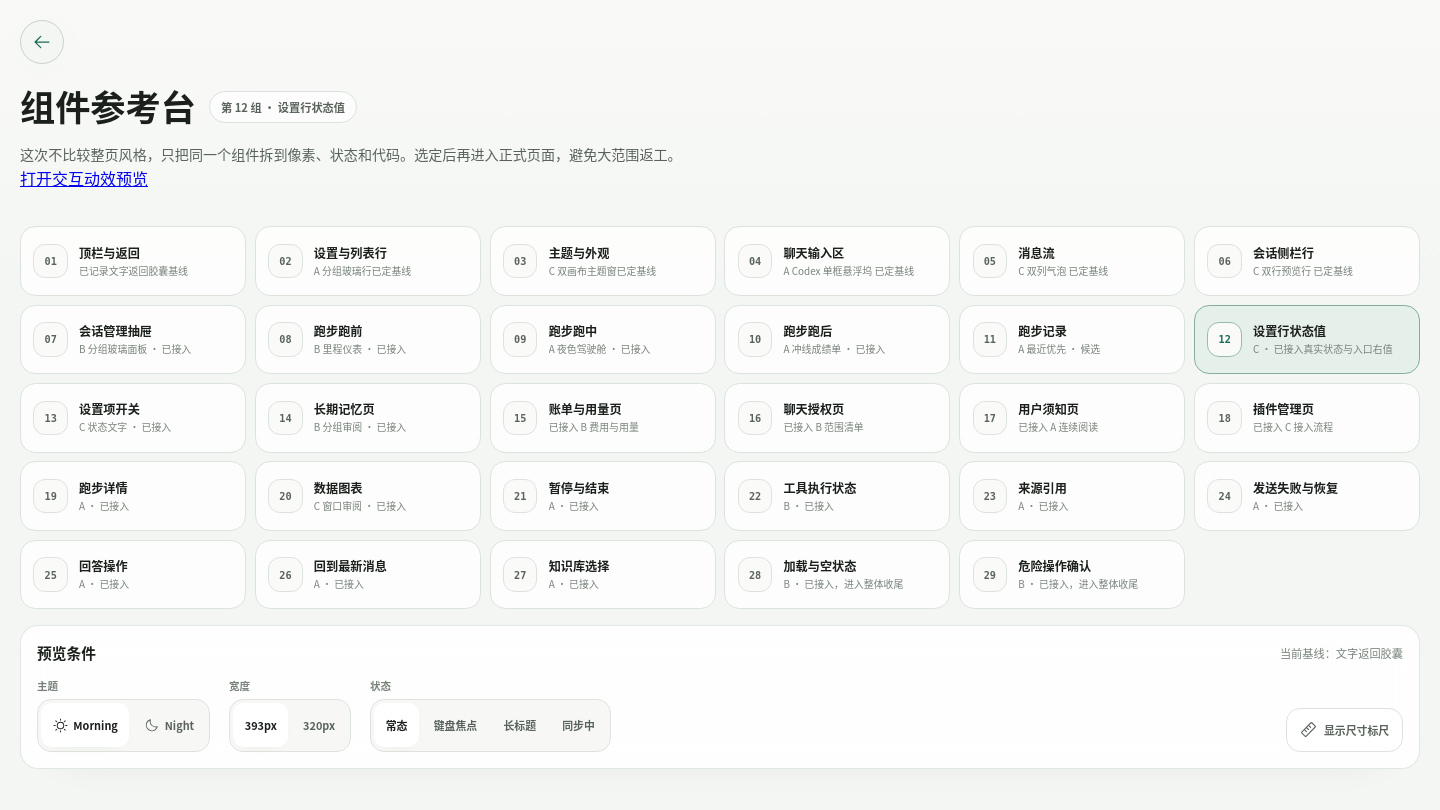
Test: 组件参考台 › 默认进入第 11 组并展示记录列表三案
What coordinates should you click on to do the following:
click the button with aria-label "查看第 11 组：跑步记录"
I would click on:
 (1072, 339)
Its box is [959,305,1185,374].
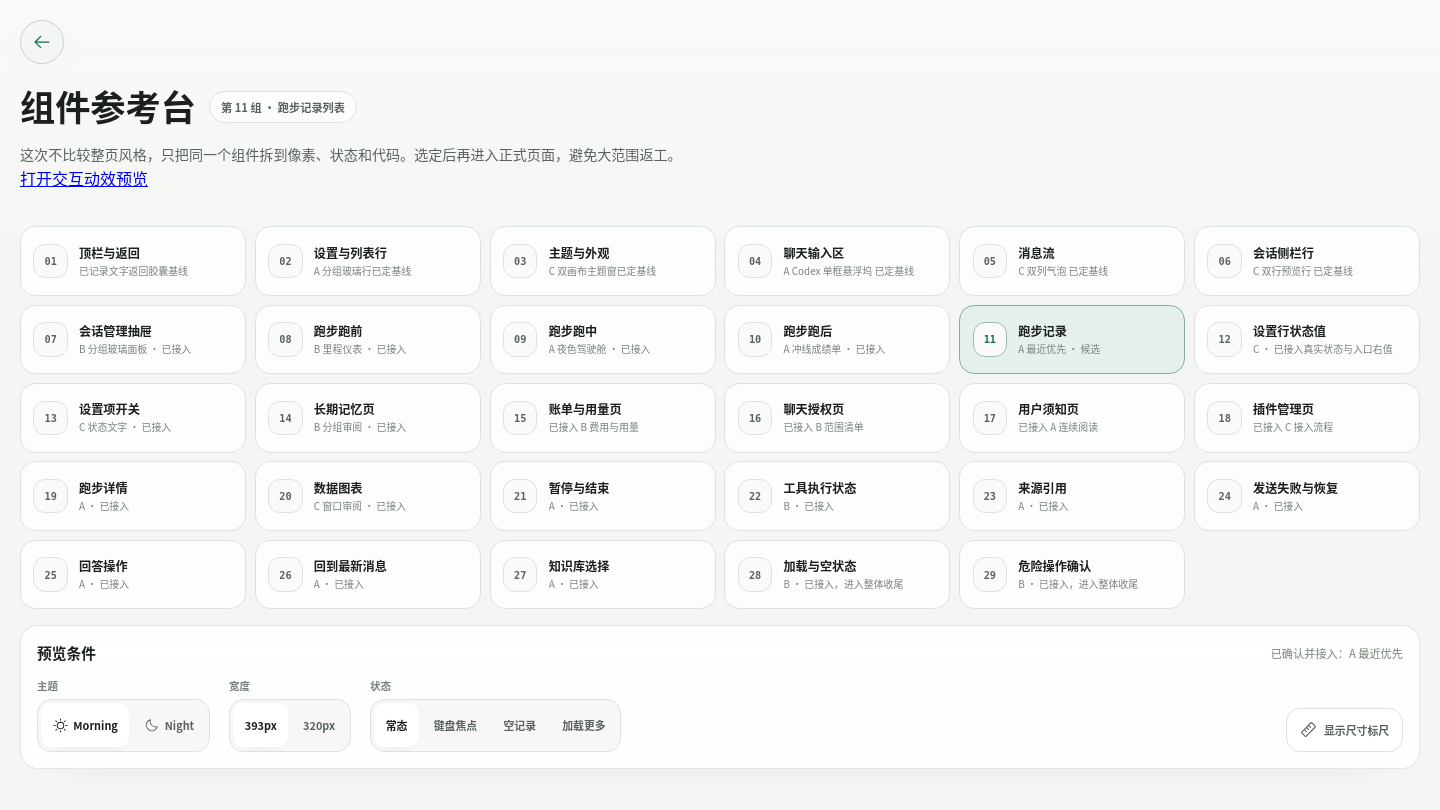
Check: the heading "组件参考台" is shown, box [20,86,196,127]
Check: the text "已确认并接入：A 最近优先" is shown, box [1271,645,1403,661]
